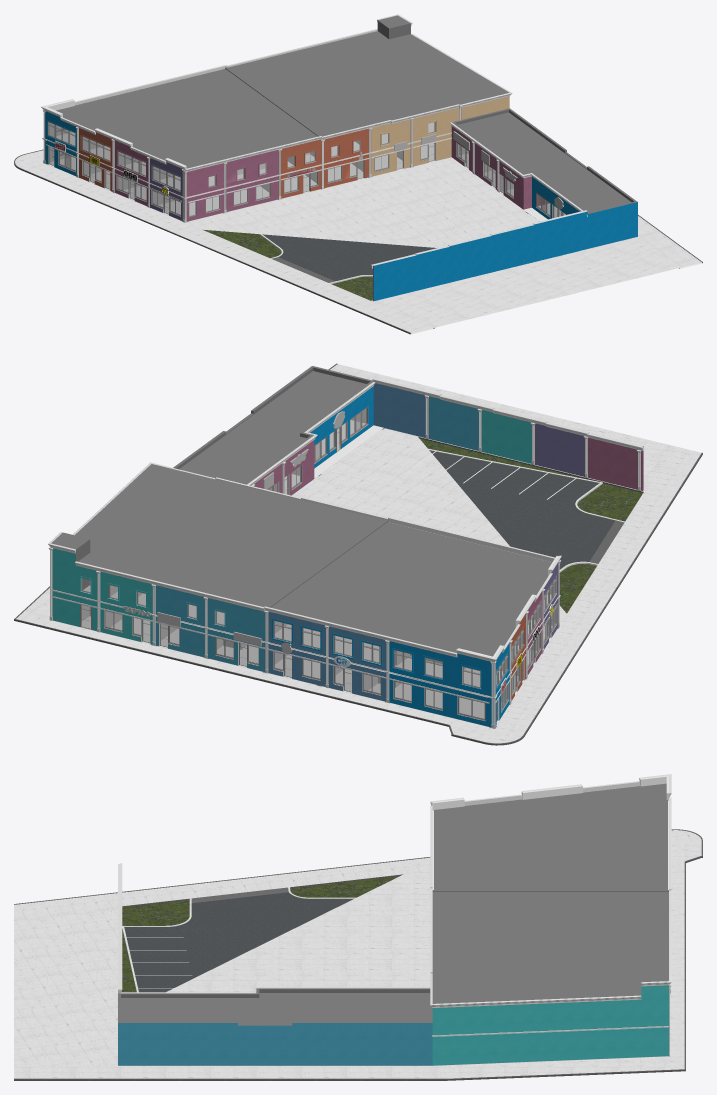
File: exterior new.fbx
3 renders of one model, top to bottom at view 1: azimuth 30°, elevation 25°; view 2: azimuth 150°, elevation 25°; view 3: azimuth 270°, elevation 25°, orthographic. The views are drawn at different scales.
Visible parts, largest first — view 1: exterior edit; view 2: exterior edit; view 3: exterior edit.
Part boxes in pixels (x1,y1,x2,y2): exterior edit: (14, 14, 702, 334); exterior edit: (14, 363, 702, 745); exterior edit: (14, 774, 702, 1080).
Size of the model in its own units: 240900 by 34397 by 280566.
